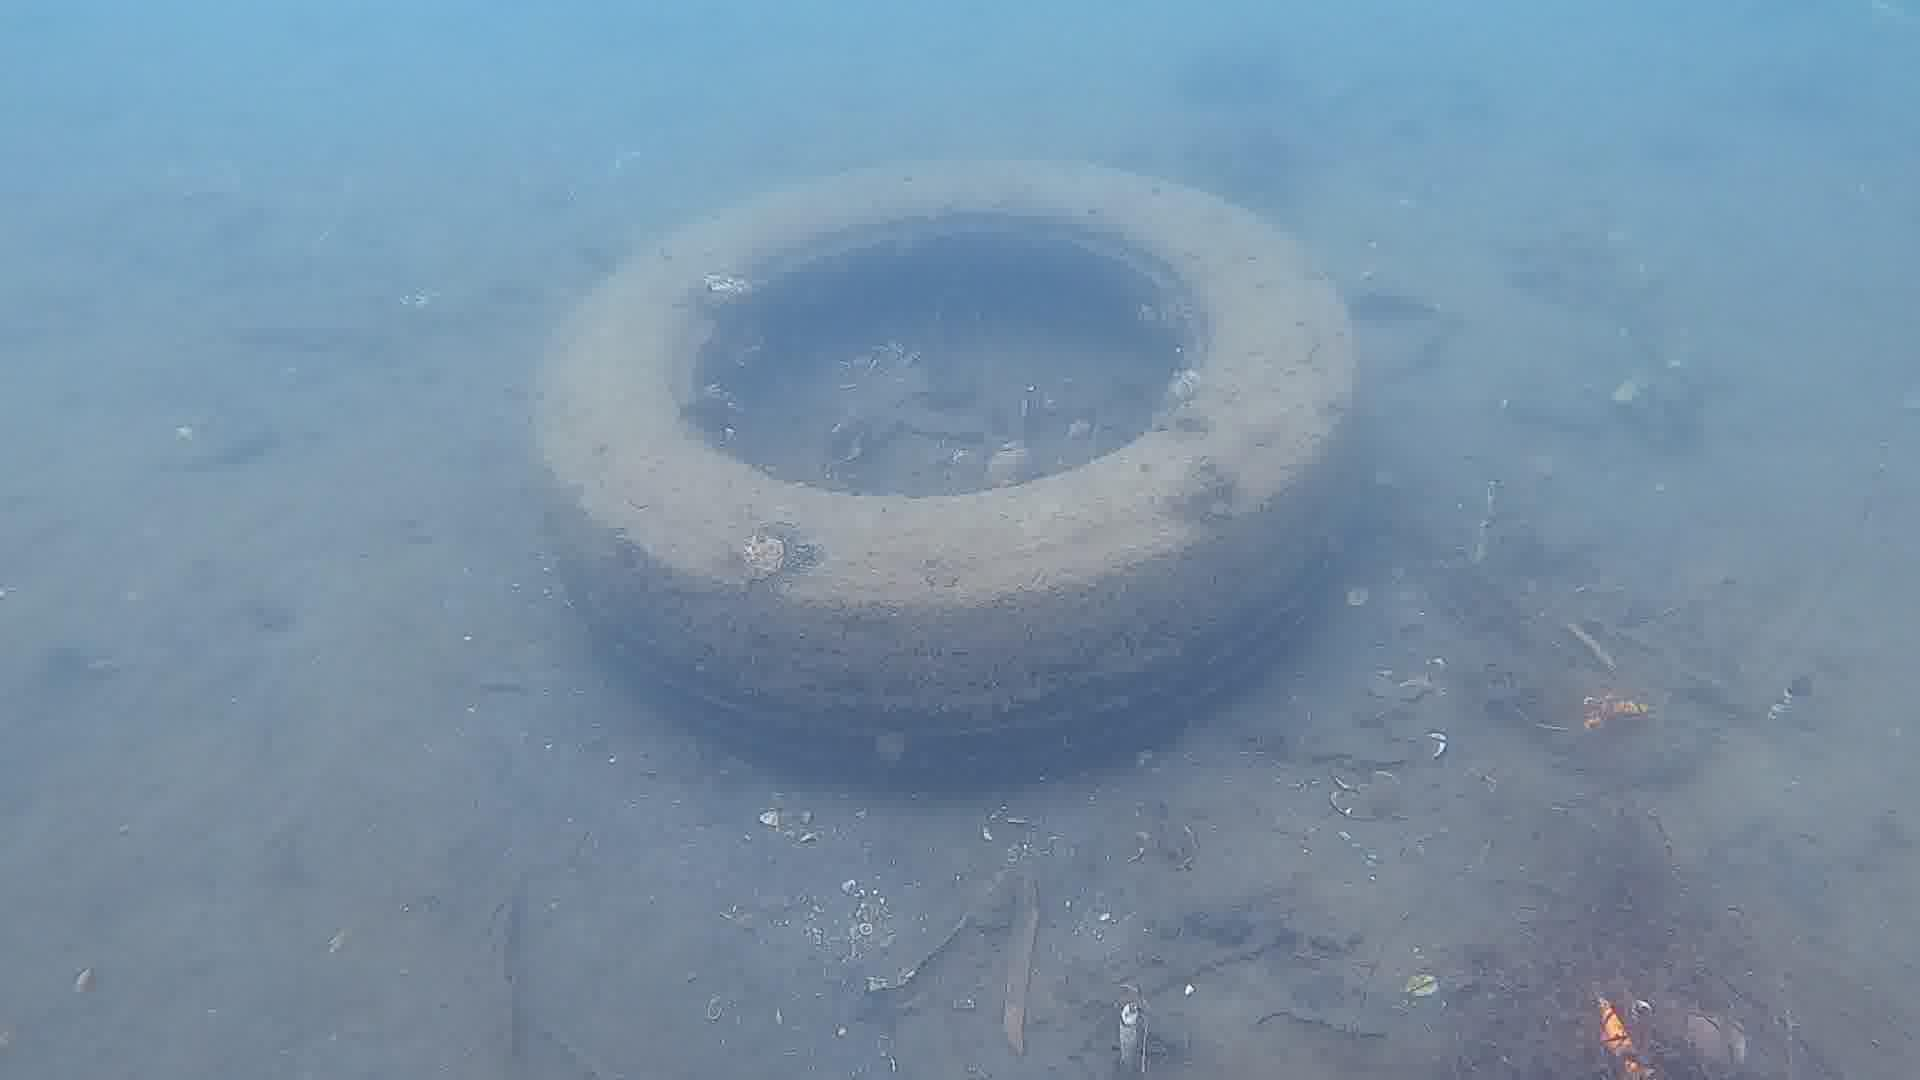tire: (527, 152, 1366, 796)
